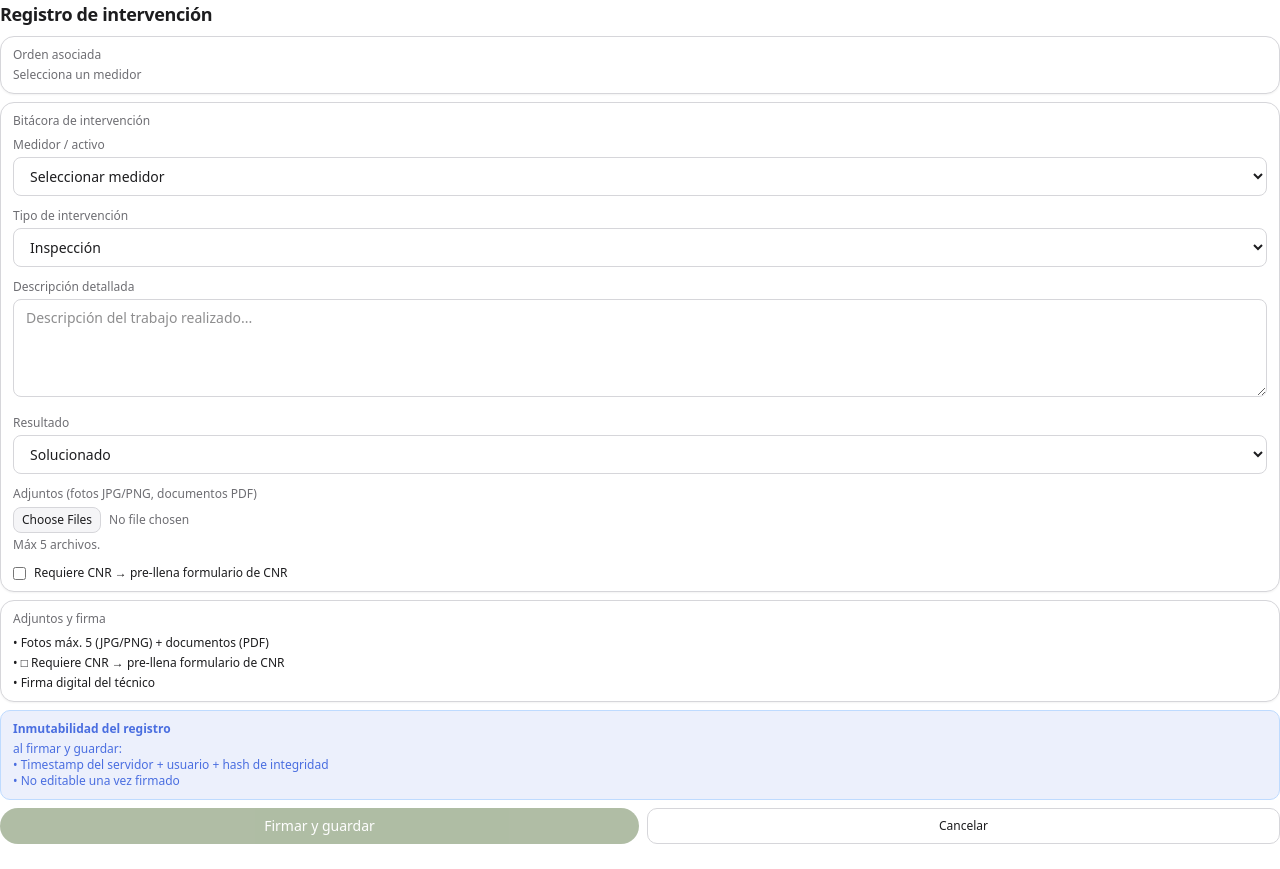
Test case: RegIntervencionPage › meter info › shows meter details after selection
Step 1. Select "Principal (P1) — Mall Norte" in the dropdown below "Medidor / activo" → (640, 176), box [13, 157, 1267, 196]
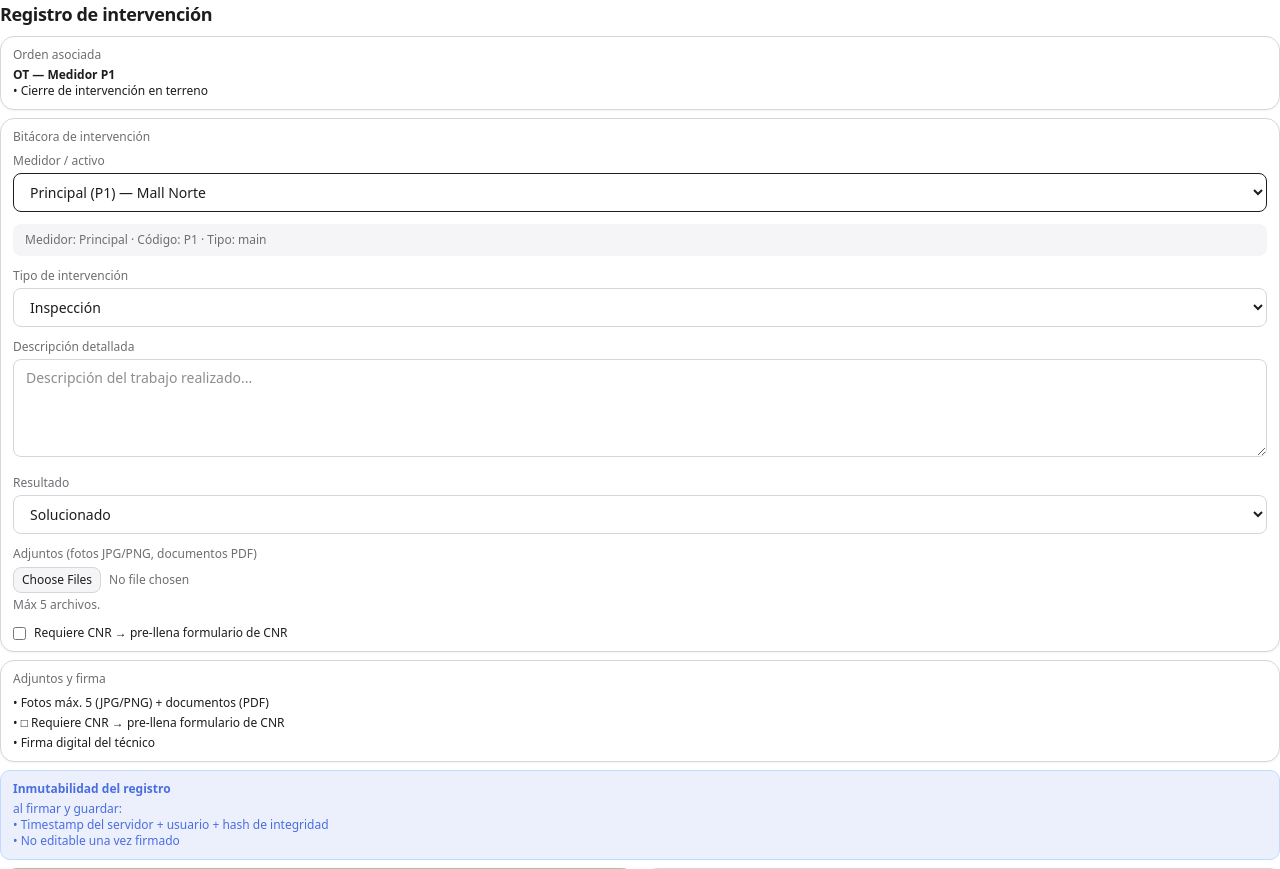
Expected: the text "Código:" is shown, [137, 231, 180, 248]
Expected: the text "Tipo:" is shown, [207, 231, 235, 248]
